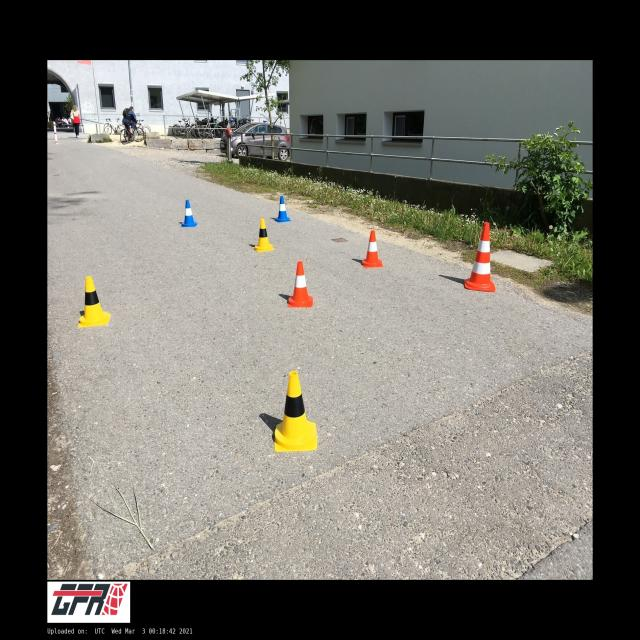blue_cone: (180, 200, 198, 227), (274, 196, 291, 222)
large_orange_cone: (464, 222, 495, 292)
orange_cone: (288, 262, 313, 307), (362, 231, 383, 267)
yellow_cone: (274, 371, 317, 452), (77, 276, 111, 327), (253, 218, 275, 252)
